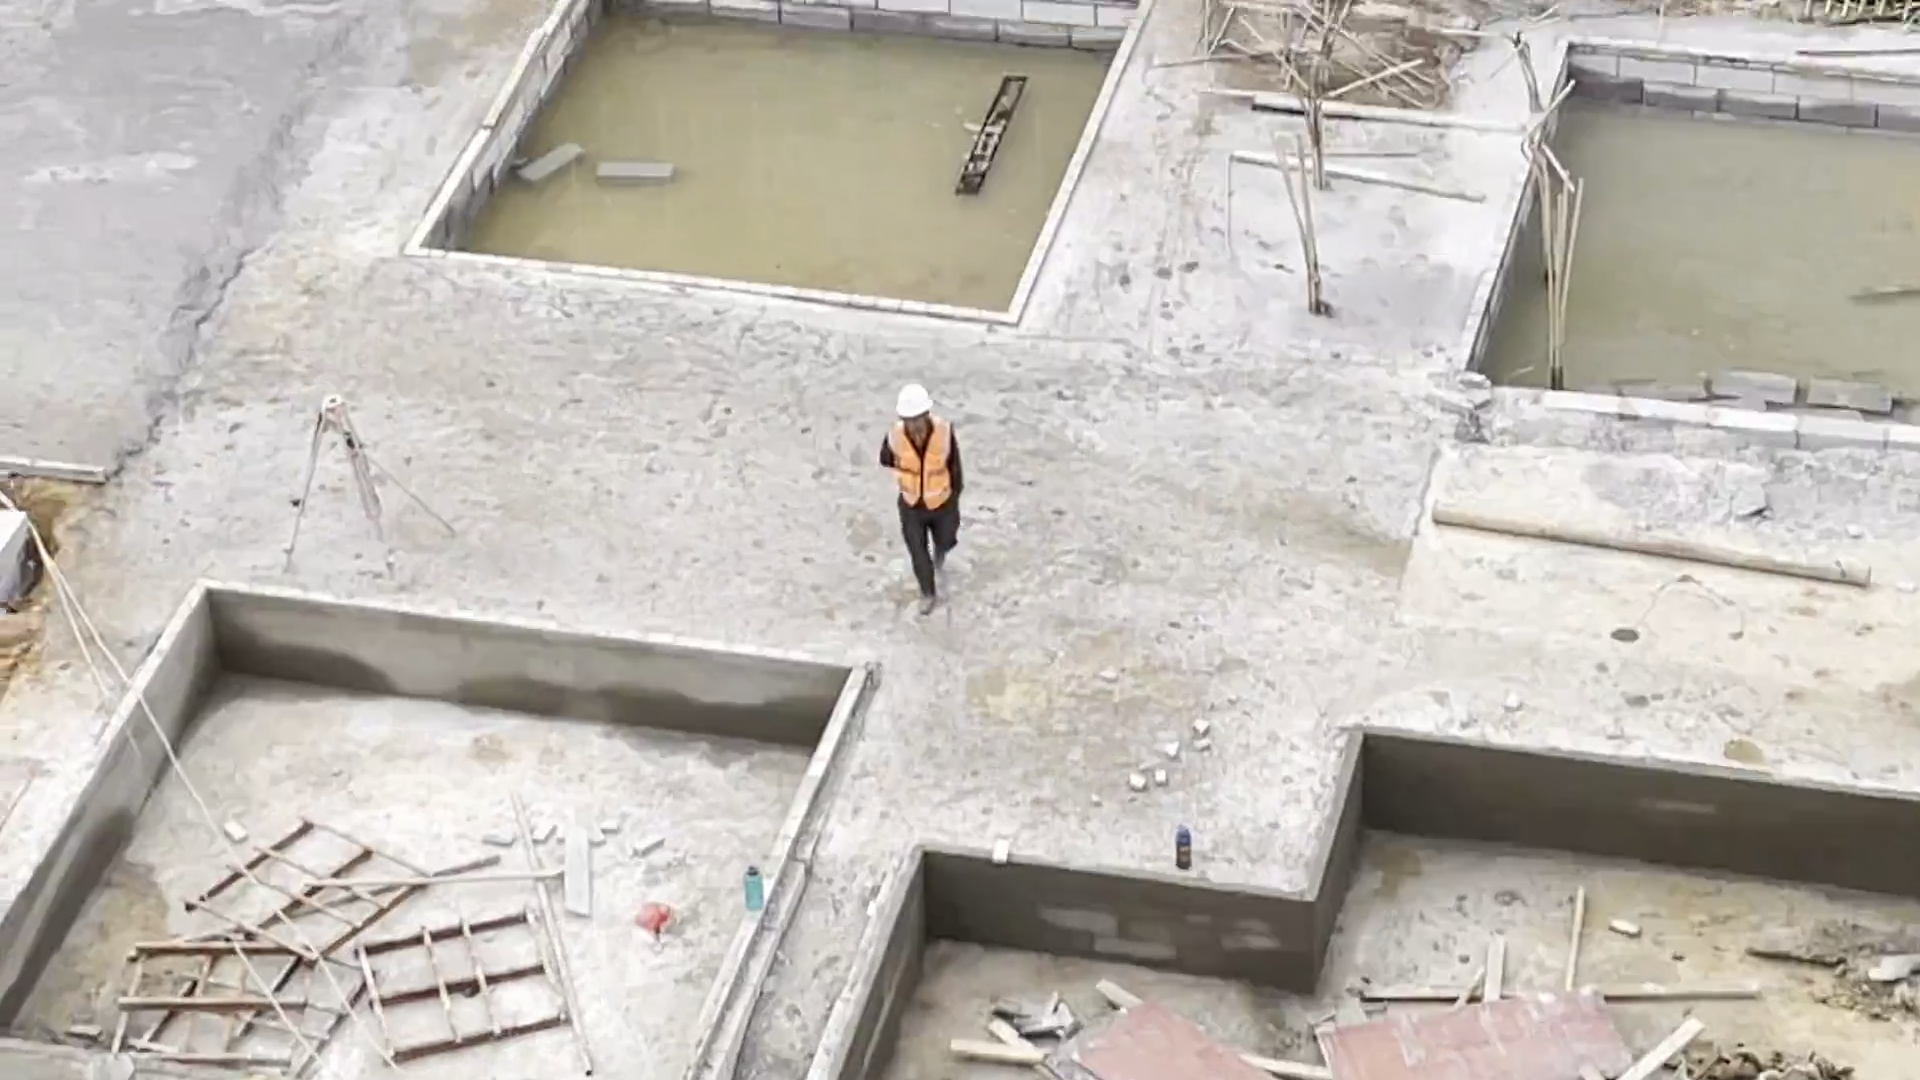helmet: (893, 385, 933, 419)
person: (877, 377, 960, 608)
vest: (889, 421, 960, 514)
